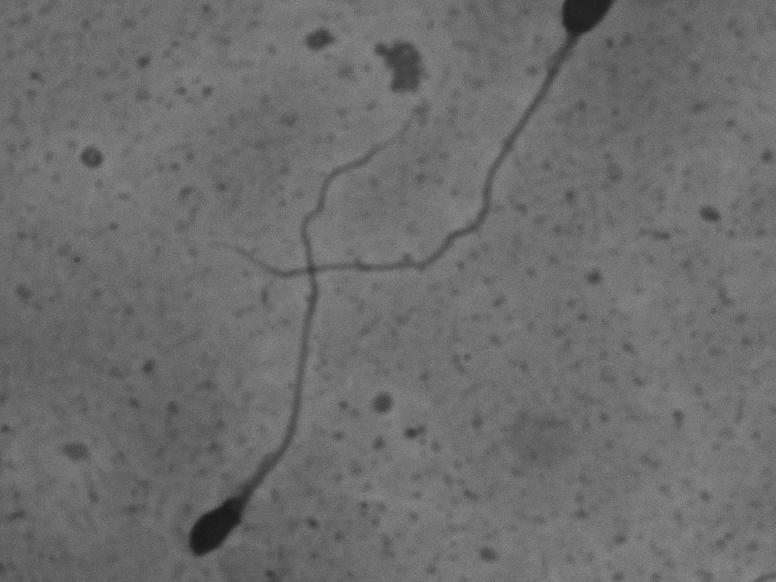Abnormal: (167, 84, 439, 562)
